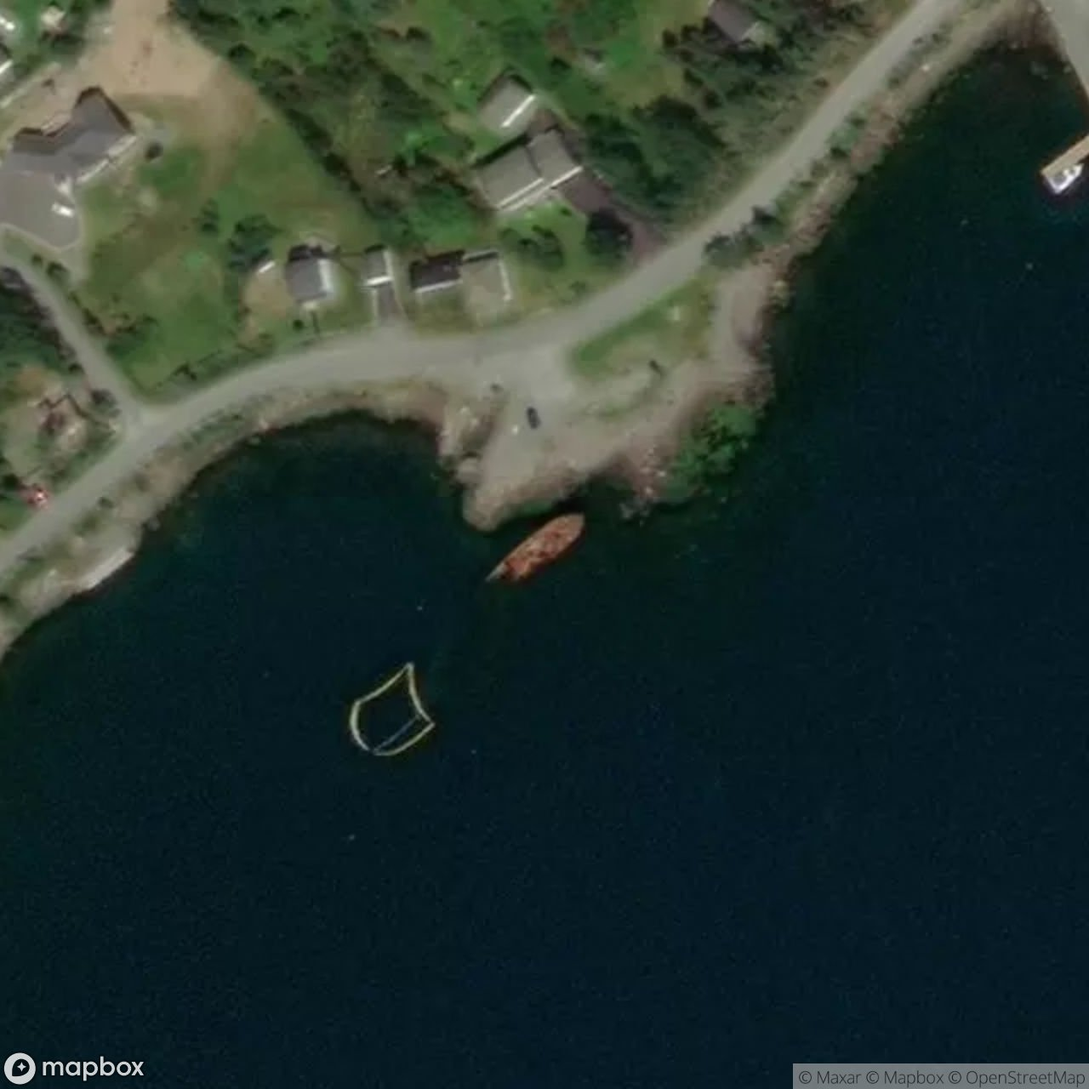Wreck: (432, 506, 652, 577)
